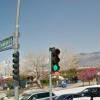Traffic light: (42, 44, 68, 84)
